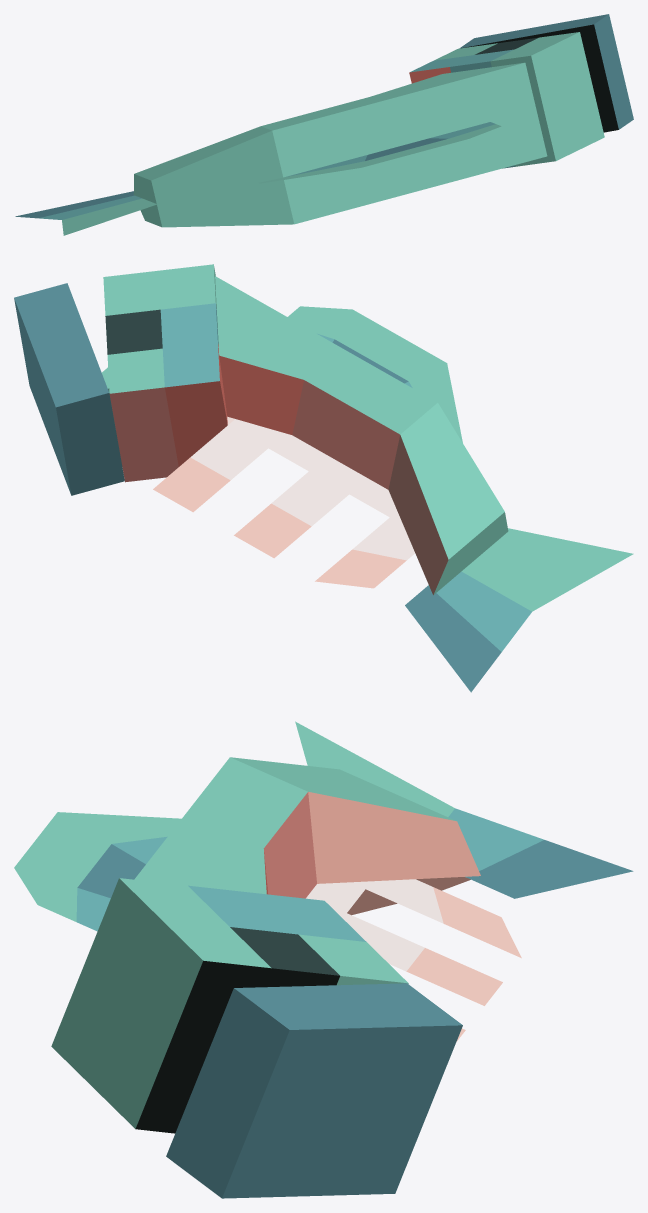
Rendered from eatenFish.fbx.
The picture shows the model from 3 angles, top to bottom: view 1: azimuth 30°, elevation 25°; view 2: azimuth 150°, elevation 25°; view 3: azimuth 270°, elevation 25°; orthographic projection. The views are drawn at different scales.
Parts seen in each view (by area): view 1: eatenFish, plane_2, plane_1; view 2: eatenFish, plane, plane_2, plane_1; view 3: eatenFish, plane_1, plane_2, plane.
Part boxes in pixels (left/top/right/bottom): eatenFish: left=133, top=14, right=633, bottom=227; plane_2: left=15, top=191, right=159, bottom=235; plane_1: left=258, top=122, right=501, bottom=183; eatenFish: left=14, top=264, right=508, bottom=595; plane: left=153, top=416, right=414, bottom=588; plane_2: left=405, top=528, right=633, bottom=692; plane_1: left=288, top=306, right=462, bottom=442; eatenFish: left=51, top=757, right=480, bottom=1198; plane_1: left=14, top=812, right=181, bottom=931; plane_2: left=295, top=721, right=633, bottom=898; plane: left=306, top=879, right=521, bottom=1041.
Bounding box in the file's own units: 163 × 50.2 × 90.25.
1 material, 1 textured.
